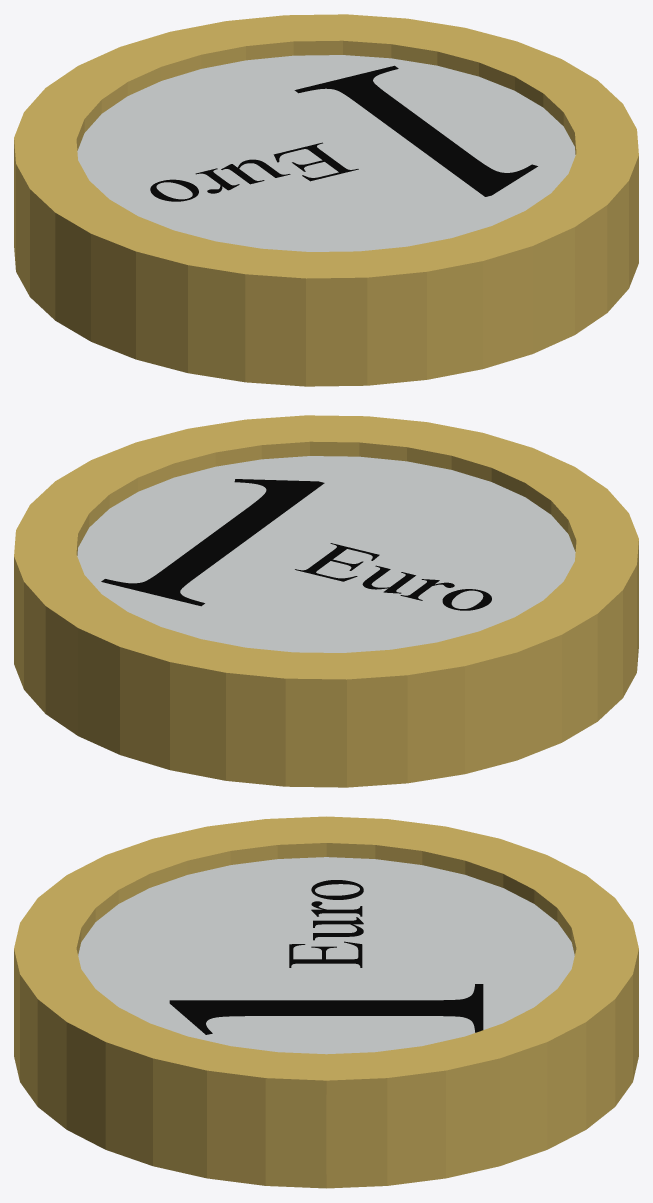
File: 1euro.obj
3 renders of one model, top to bottom at view 1: azimuth 30°, elevation 25°; view 2: azimuth 150°, elevation 25°; view 3: azimuth 270°, elevation 25°, orthographic.
Parts seen in each view (by area): view 1: Cylinder, Text, Text.001; view 2: Cylinder, Text, Text.001; view 3: Cylinder, Text, Text.001.
Part boxes in pixels (bbox=[...]): Cylinder: bbox=[14, 14, 638, 386]; Text: bbox=[294, 65, 537, 196]; Text.001: bbox=[150, 142, 358, 201]; Cylinder: bbox=[14, 415, 638, 787]; Text: bbox=[101, 479, 324, 606]; Text.001: bbox=[295, 543, 491, 610]; Cylinder: bbox=[14, 816, 638, 1188]; Text: bbox=[169, 984, 483, 1034]; Text.001: bbox=[289, 880, 363, 967].
Bounding box in the file's own units: 2 × 0.3809 × 2.
